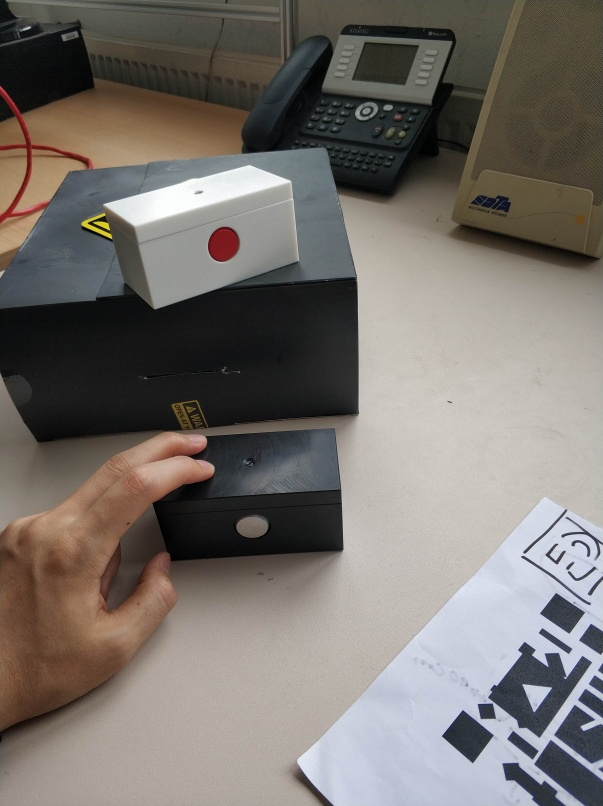black+black+silver: (146, 424, 348, 565)
white+white+red: (99, 158, 302, 315)
